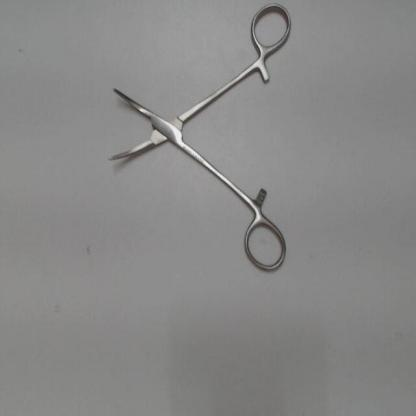Crile Artery Forceps: (103, 1, 293, 283)
